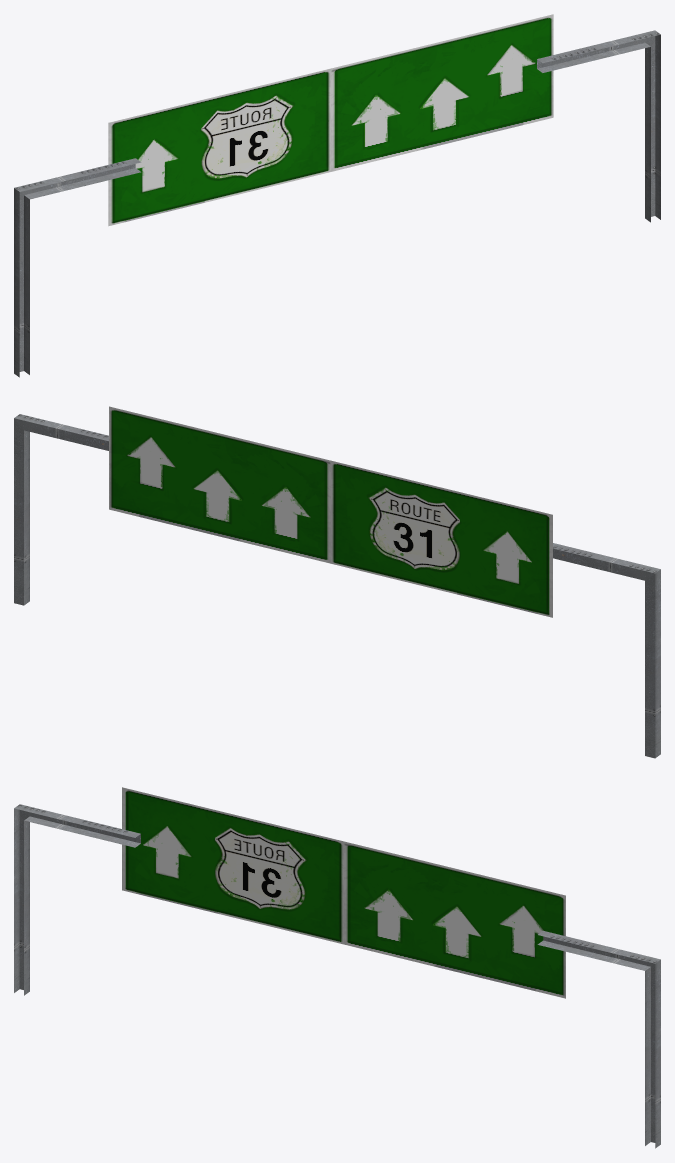
Rendered from sign_big2.fbx.
3 renders of one model, top to bottom at view 1: azimuth 30°, elevation 25°; view 2: azimuth 150°, elevation 25°; view 3: azimuth 330°, elevation 25°, orthographic.
Visible parts, largest first — view 1: sign_big2; view 2: sign_big2; view 3: sign_big2.
Part boxes in pixels (x1,y1,x2,y2): sign_big2: [14, 14, 660, 377]; sign_big2: [14, 406, 660, 758]; sign_big2: [14, 787, 660, 1148].
Bounding box in the file's own units: 1904 × 633 × 51.17.
